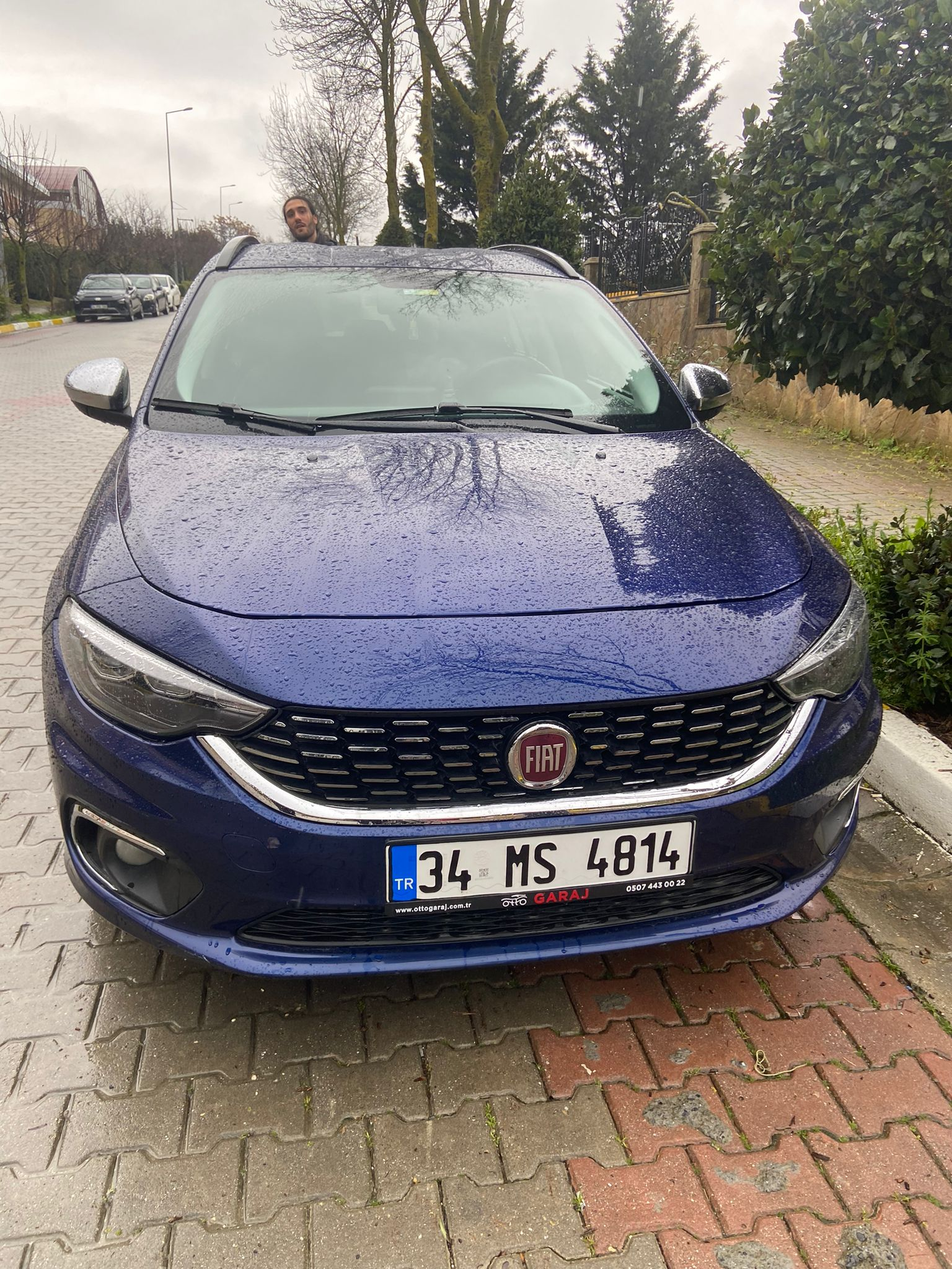plate: (386, 823, 703, 923)
